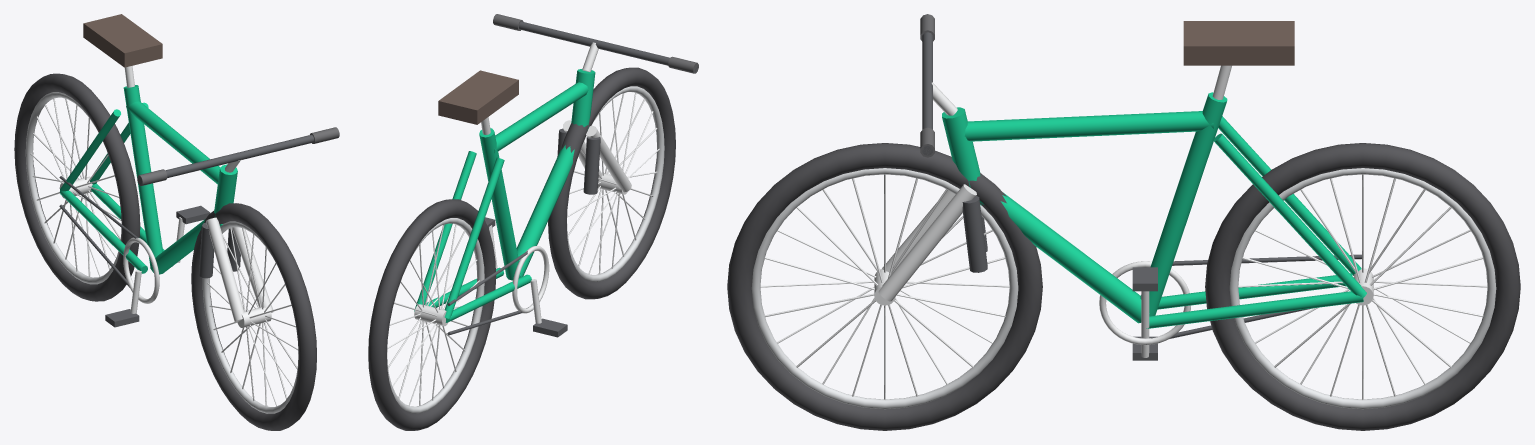
The model's file is bike-mountain.glb.
The picture shows the model from 3 angles, left to right: view 1: azimuth 30°, elevation 25°; view 2: azimuth 150°, elevation 25°; view 3: azimuth 270°, elevation 25°; orthographic projection. The views are drawn at different scales.
Parts seen in each view (by area): view 1: bike-mountain; view 2: bike-mountain; view 3: bike-mountain.
Part boxes in pixels (box(x1,y1,x2,y2)): bike-mountain: box(14, 14, 339, 430); bike-mountain: box(368, 14, 698, 430); bike-mountain: box(727, 14, 1520, 430).
Size of the model in its own units: 0.72 by 1.02 by 1.86.
